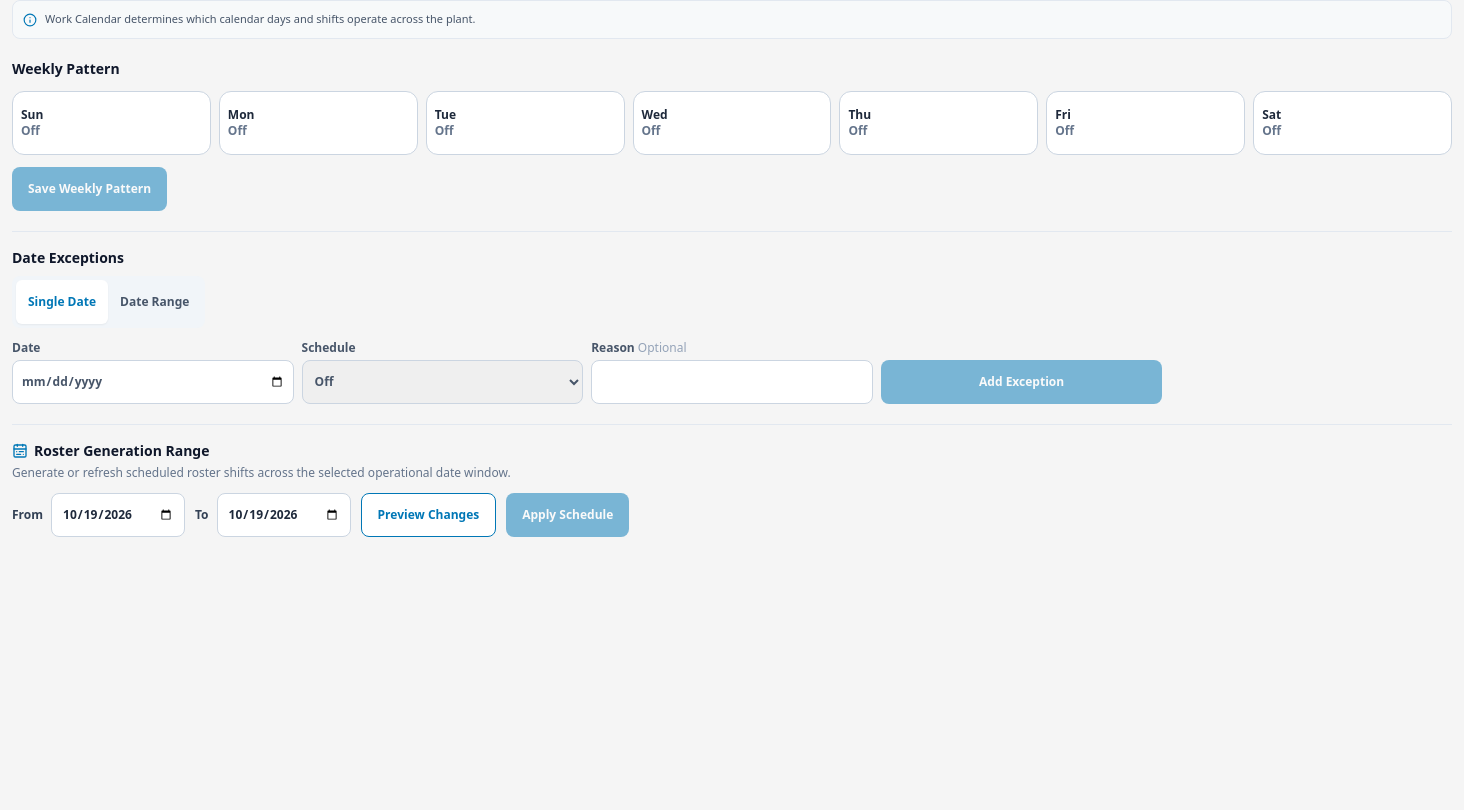
Test case: ScheduleCard › requires a successful preview before apply and shows exact counts
Check: the heading "Weekly Pattern" is shown, box [12,58,120,78]
Check: the heading "Date Exceptions" is shown, box [12,248,124,266]
Click the button "Preview Changes": (428, 514) [361,492,496,536]
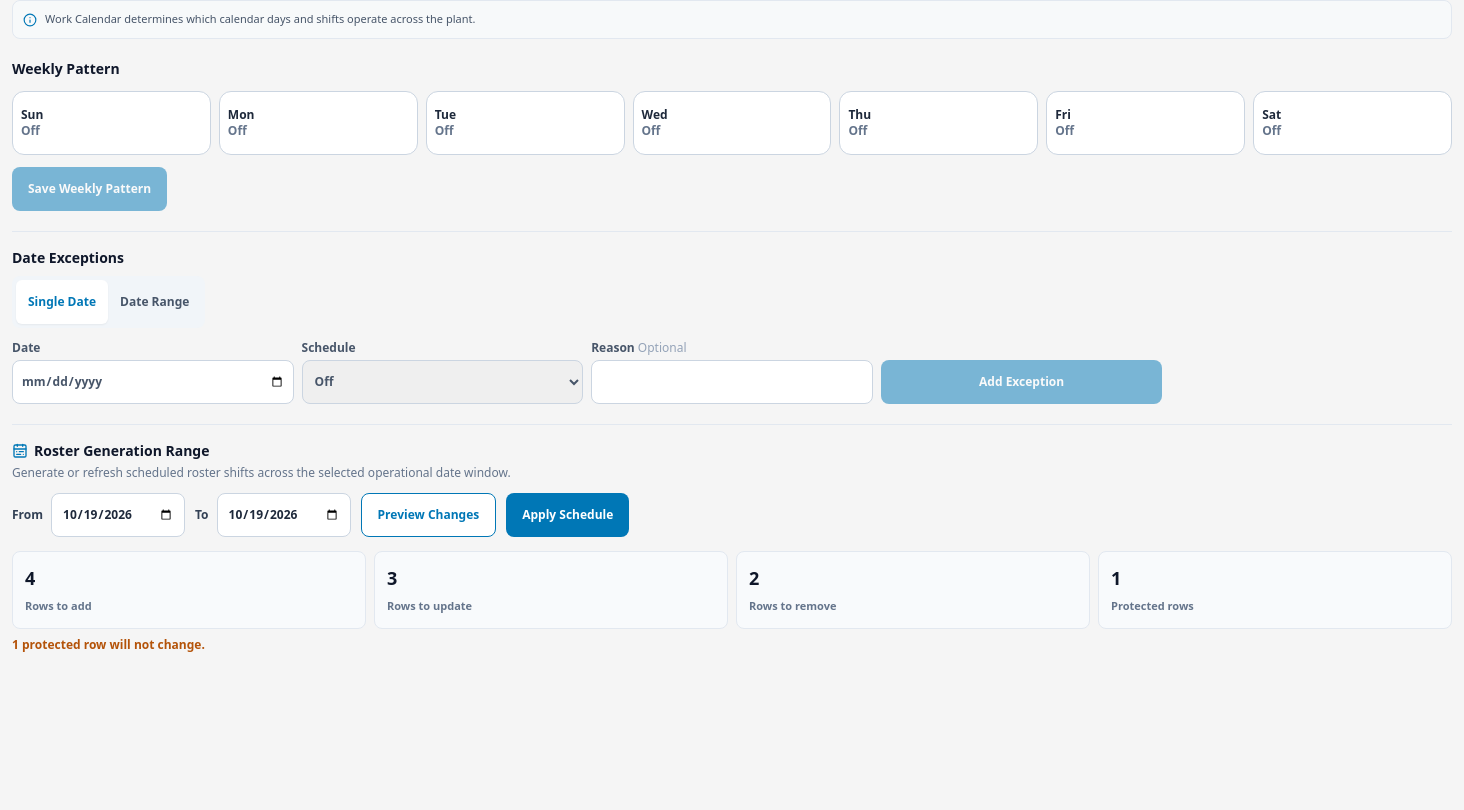
Check: the text "4" is shown, box [25,566,35,590]
Check: the text "1 protected row will not change." is shown, box [12,636,205,652]
Check: the button "Apply Schedule" is enabled, box [506,492,629,536]
